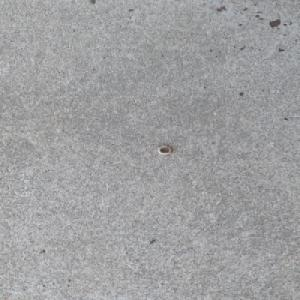Nut: (156, 145, 172, 155)
